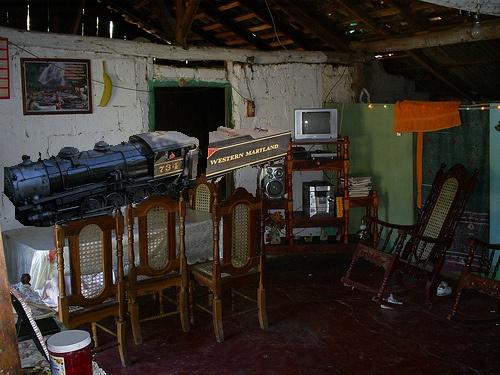tampered: (5, 124, 291, 227)
